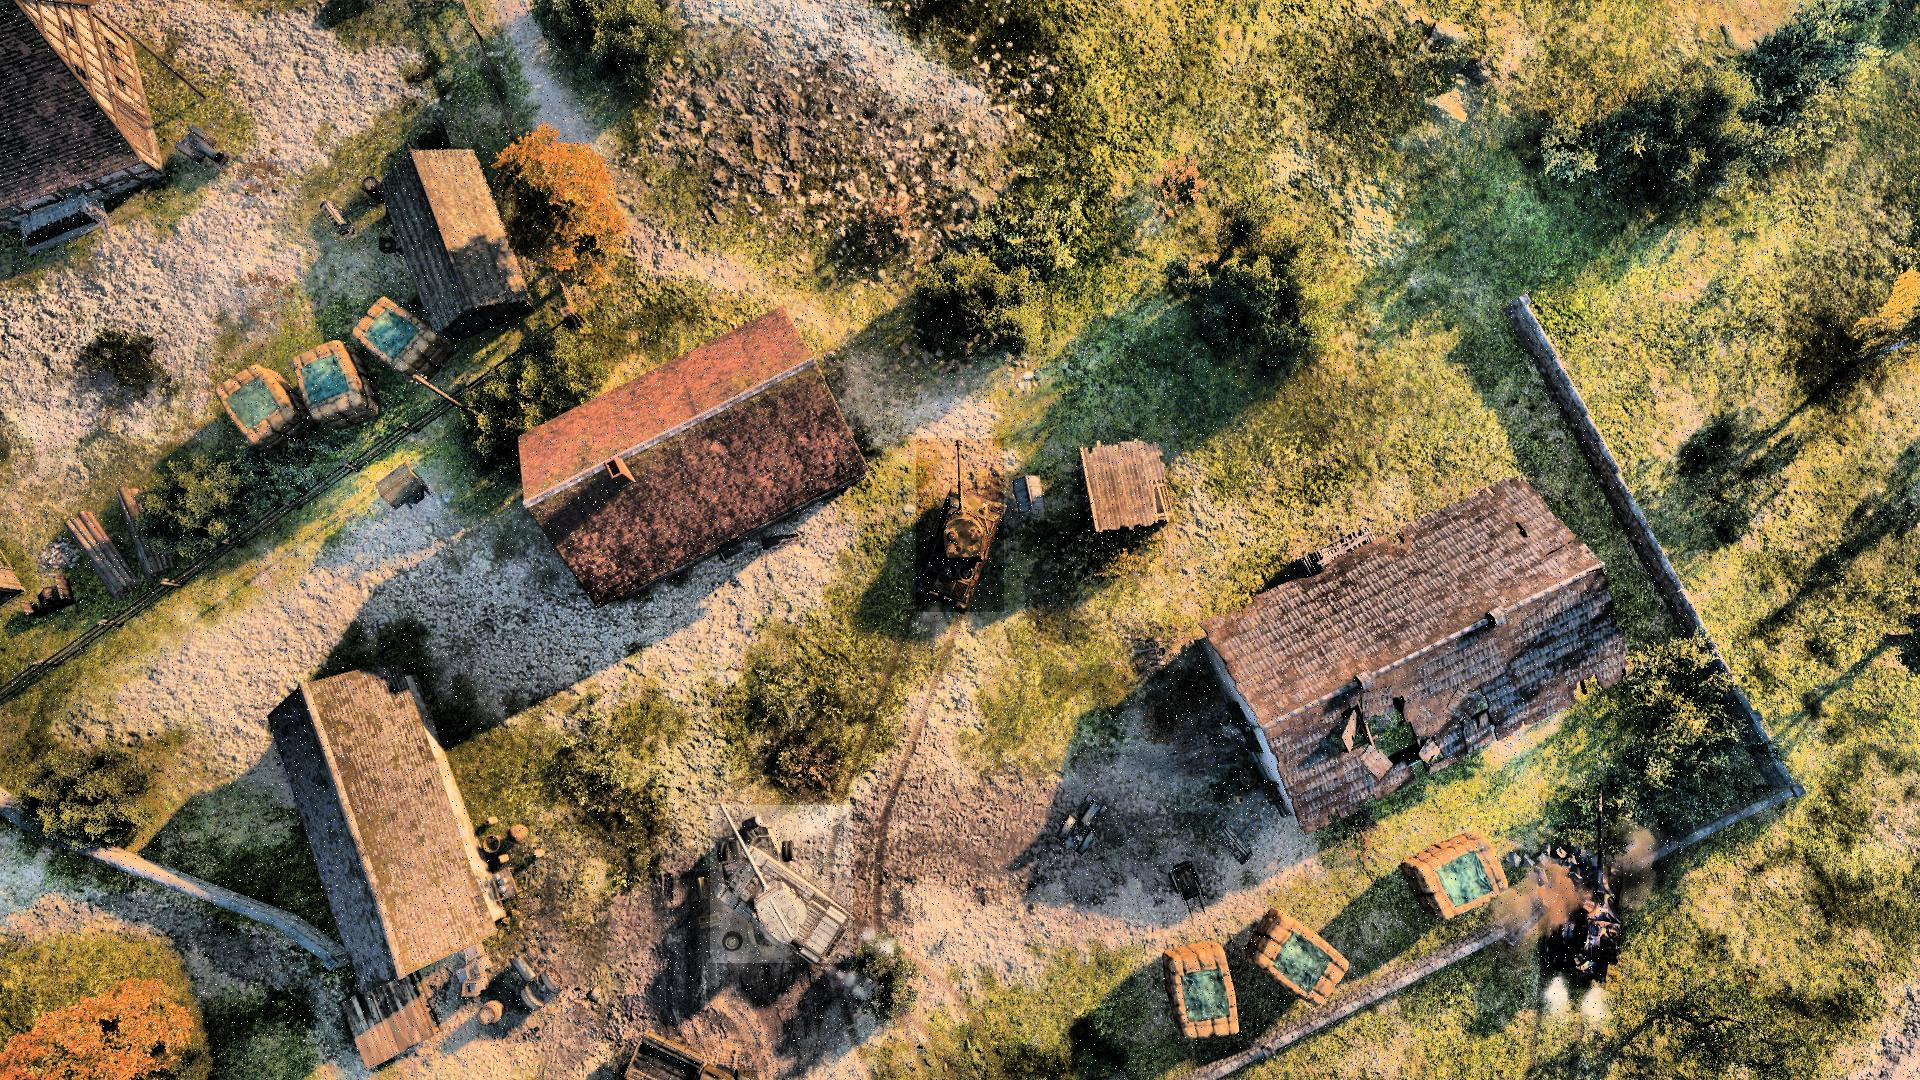military-vehicle: (709, 806, 853, 963), (1539, 785, 1623, 988), (916, 438, 1005, 612)
